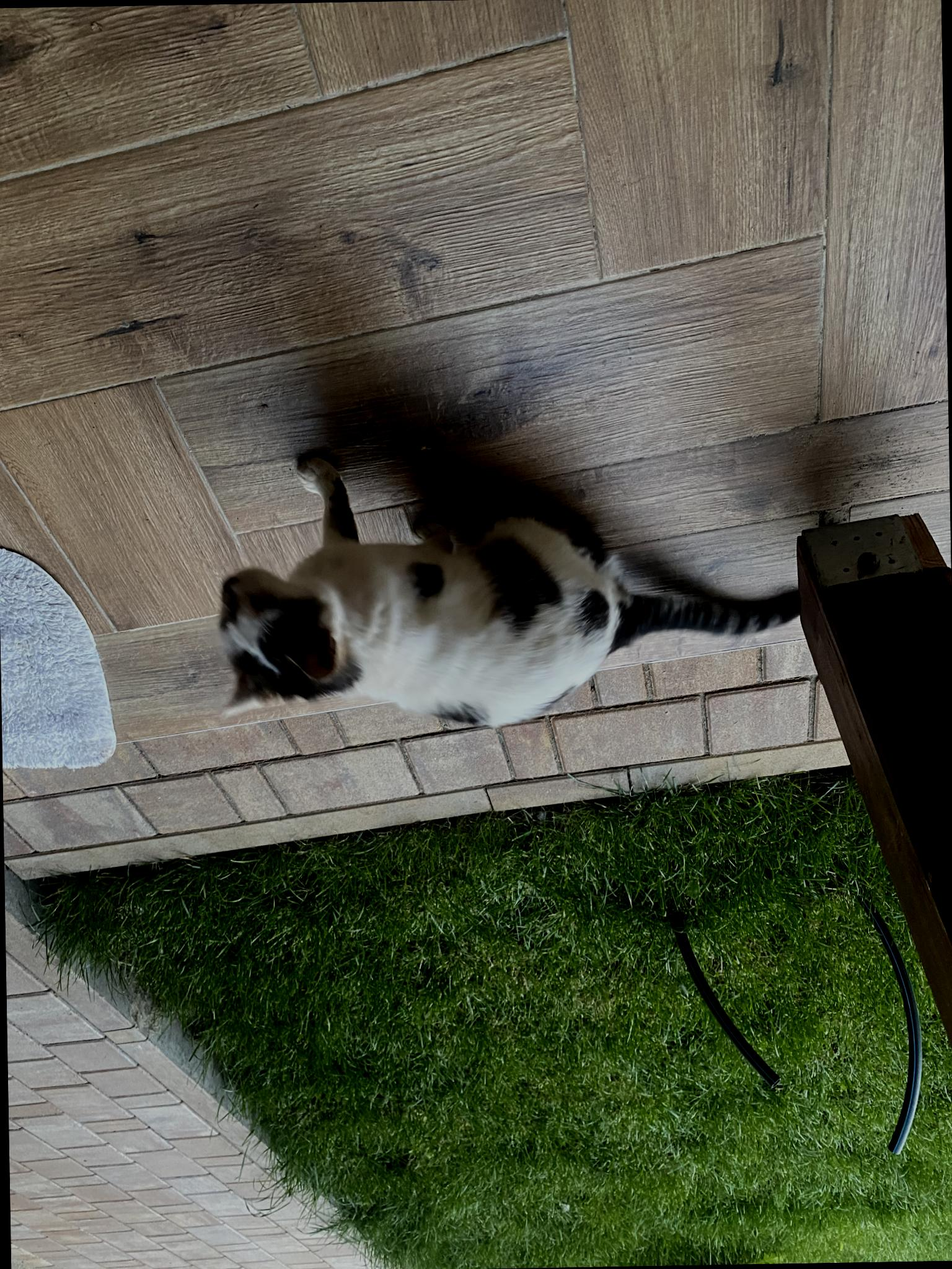macka: (212, 443, 798, 733)
